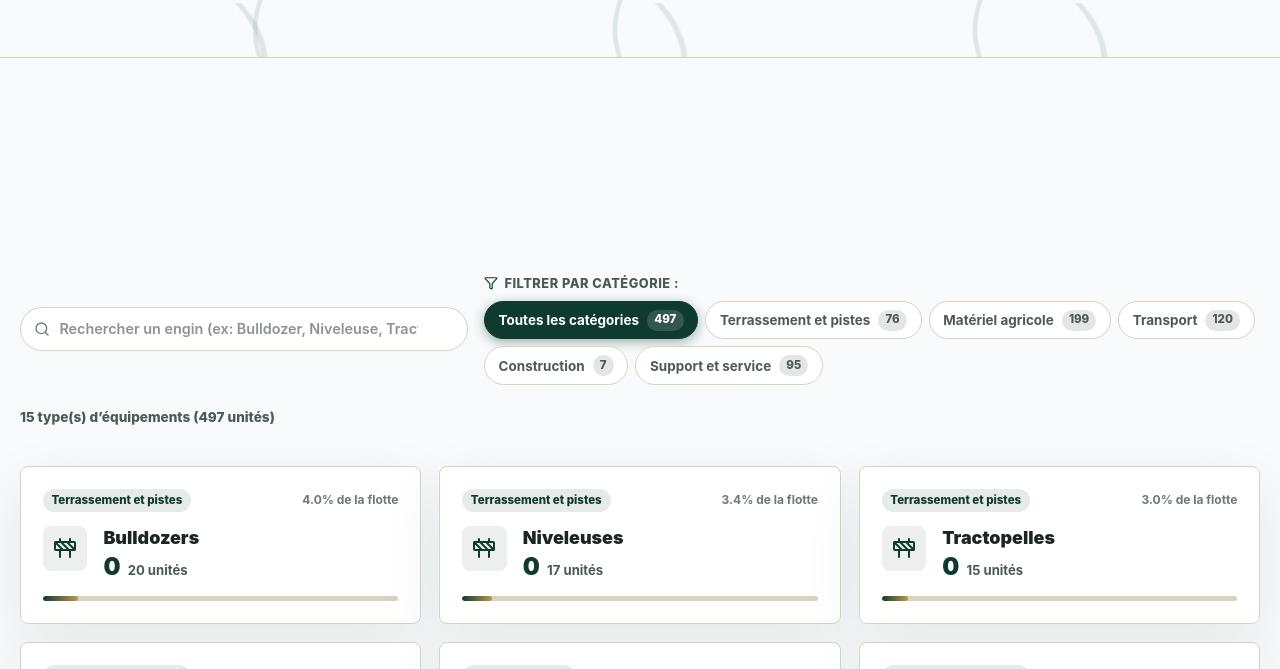
Test: ResourcesPage › filters equipment by search term and resets
(page scrolled)
Type "Niveleuse" into the search field with placeholder "Rechercher un engin (ex: Bulldozer, Niveleuse, Tracteur)..." at (244, 329), box [20, 307, 468, 352]
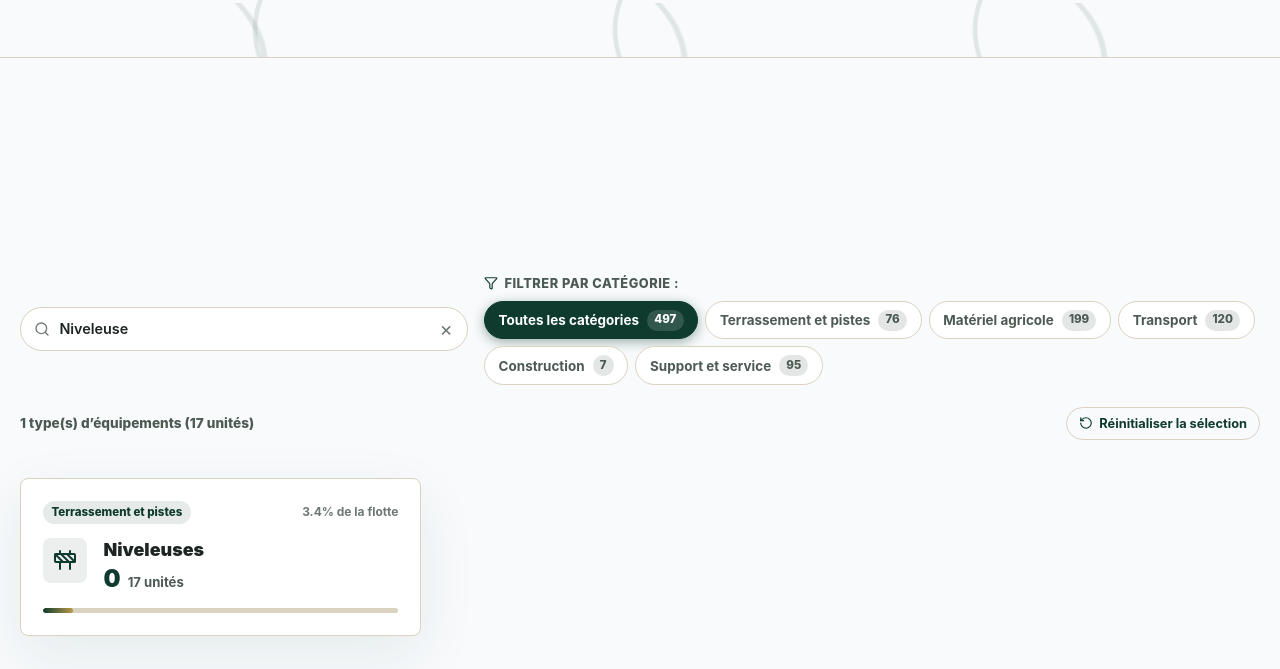
Check: the heading "Niveleuses" is shown, box [103, 539, 204, 560]
Check: the heading "Bulldozers" is gone
Note: Click reset button
Click the button "Réinitialiser la sélection" at (1163, 424), box [1066, 407, 1260, 440]
(page scrolled)
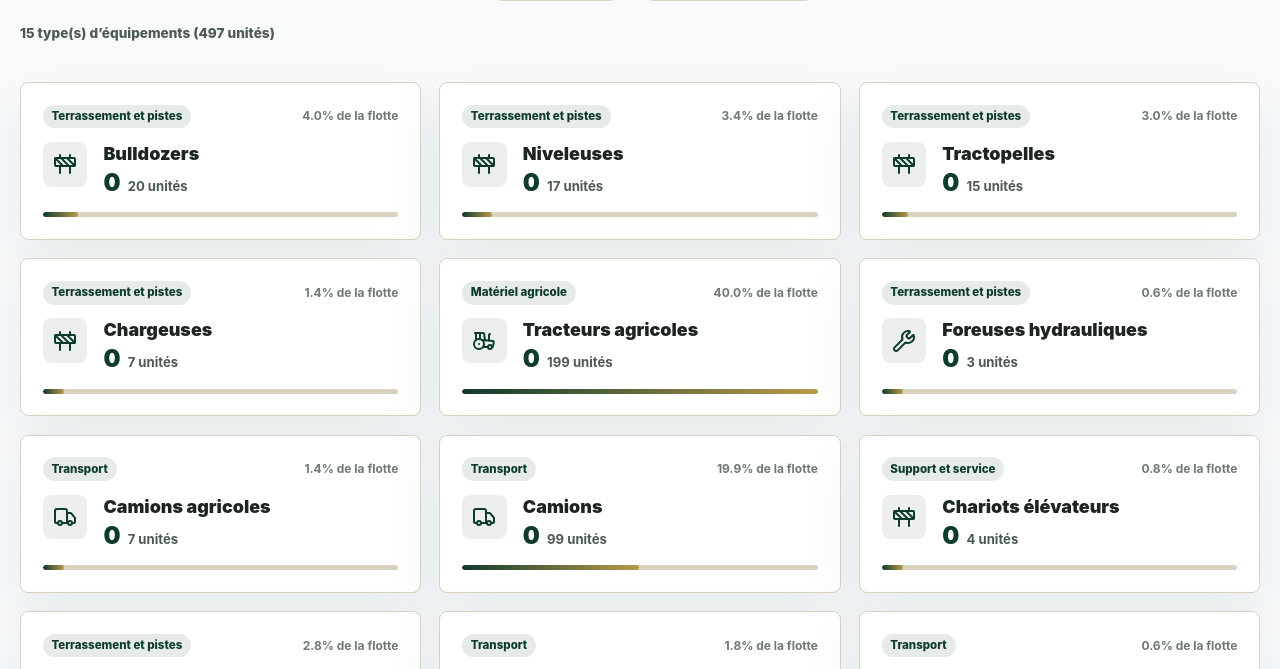
Check: the heading "Niveleuses" is shown, box [523, 143, 624, 164]
Check: the heading "Bulldozers" is shown, box [103, 143, 199, 164]
Check: the heading "Tracteurs agricoles" is shown, box [523, 319, 698, 340]
